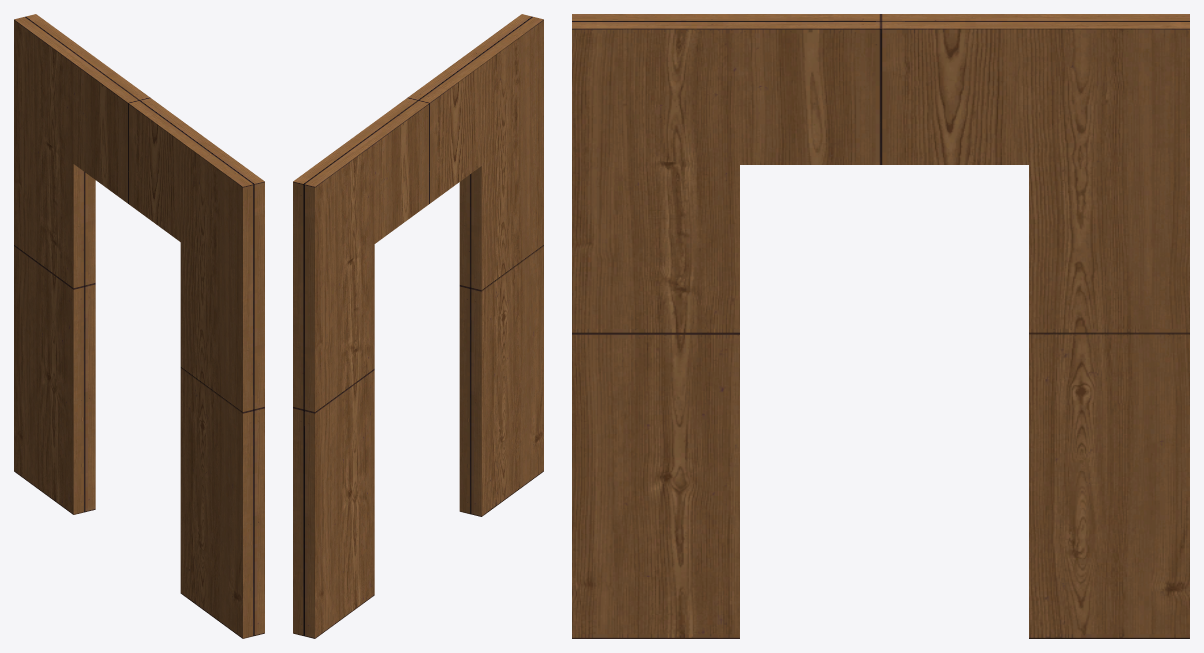
The model's file is soupdoorwall039.glb.
3 renders of one model, left to right at view 1: azimuth 30°, elevation 25°; view 2: azimuth 150°, elevation 25°; view 3: azimuth 270°, elevation 25°, orthographic. The views are drawn at different scales.
Visible parts, largest first — view 1: soupdoorwall039_high_1; view 2: soupdoorwall039_high_1; view 3: soupdoorwall039_high_1.
Part boxes in pixels (x1,y1,x2,y2): soupdoorwall039_high_1: (14,14,264,638); soupdoorwall039_high_1: (293,14,543,638); soupdoorwall039_high_1: (572,14,1189,638).
Size of the model in its own units: 0.1504 by 2.95 by 2.7.
Materials: 1 (1 with a texture image).
